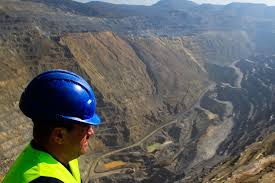Person_wearing_helmet: (17, 65, 108, 127)
